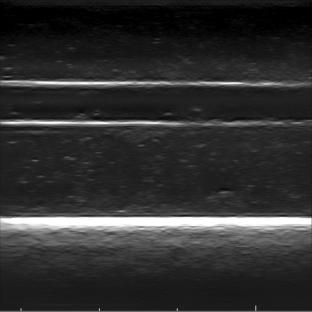vessel: (0, 79, 312, 129)
